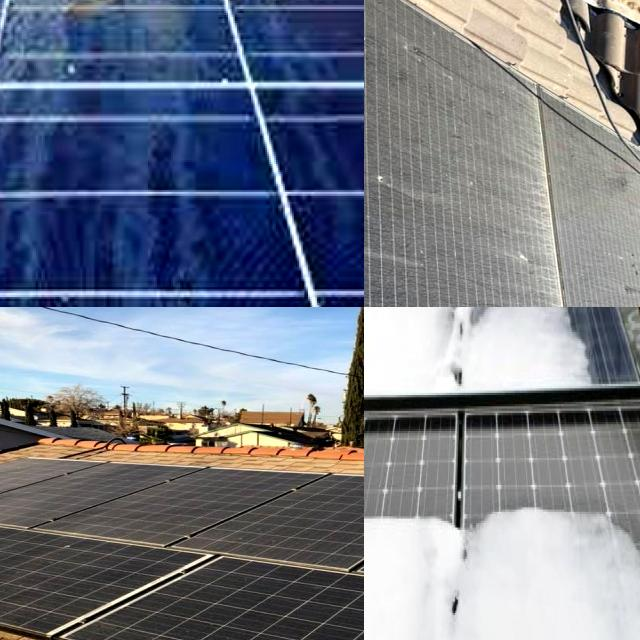bird: (0, 0, 137, 51), (85, 0, 212, 34), (239, 0, 327, 20), (0, 0, 34, 24), (0, 102, 16, 128)
dust: (441, 73, 531, 307), (545, 123, 640, 307), (364, 0, 429, 248)
panel: (394, 474, 460, 568), (590, 489, 640, 585), (531, 456, 579, 554), (472, 488, 524, 562), (364, 510, 391, 602), (364, 311, 386, 406), (441, 355, 474, 413), (567, 338, 604, 387), (364, 488, 393, 550), (442, 307, 486, 346), (384, 307, 437, 333), (494, 307, 525, 351), (535, 307, 579, 338), (364, 586, 387, 640), (448, 598, 470, 639), (364, 307, 383, 338)
